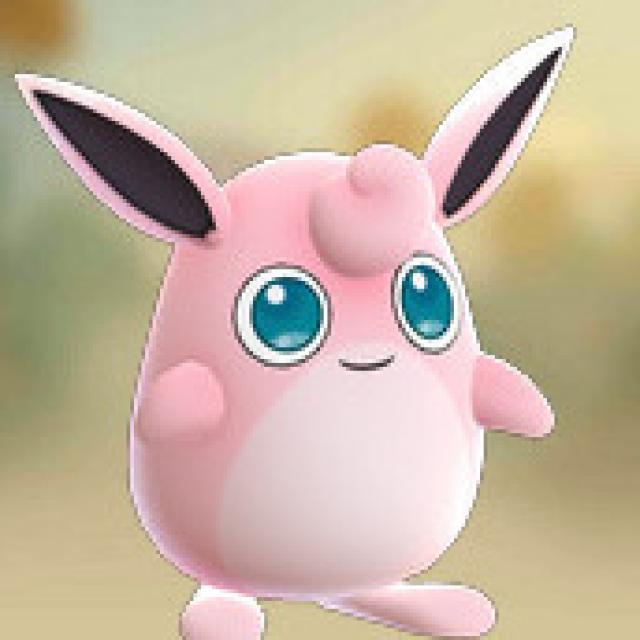Wigglytuff: (13, 0, 586, 640)
